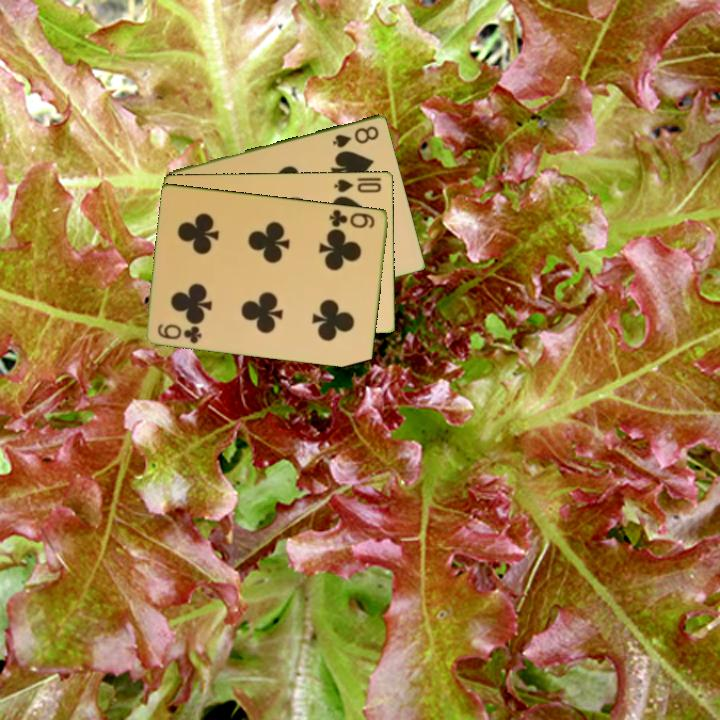10s: (331, 174, 384, 195)
6c: (154, 320, 205, 346), (326, 206, 378, 231)
8s: (329, 122, 382, 150)
